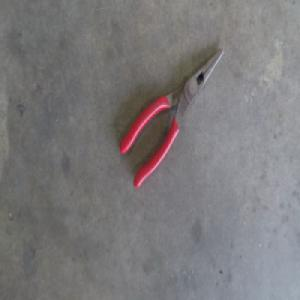Pliers: (118, 46, 226, 193)
